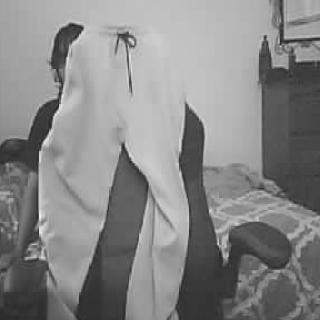White Sweatpants: (39, 23, 187, 320)
